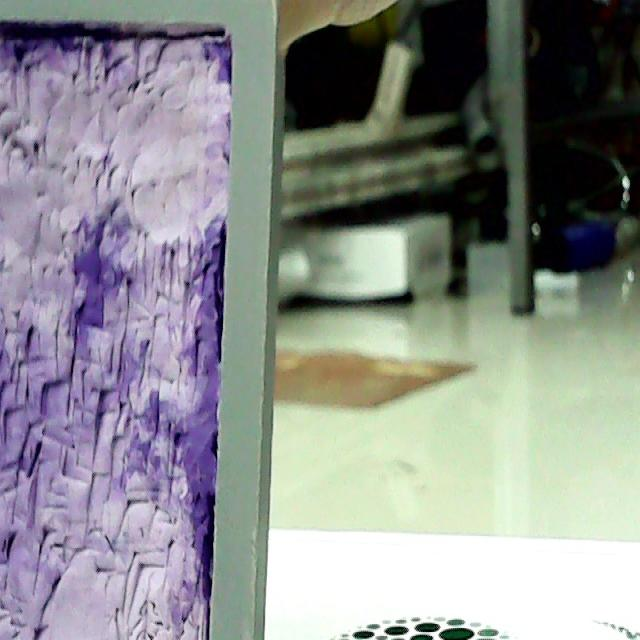block: (0, 2, 288, 640)
